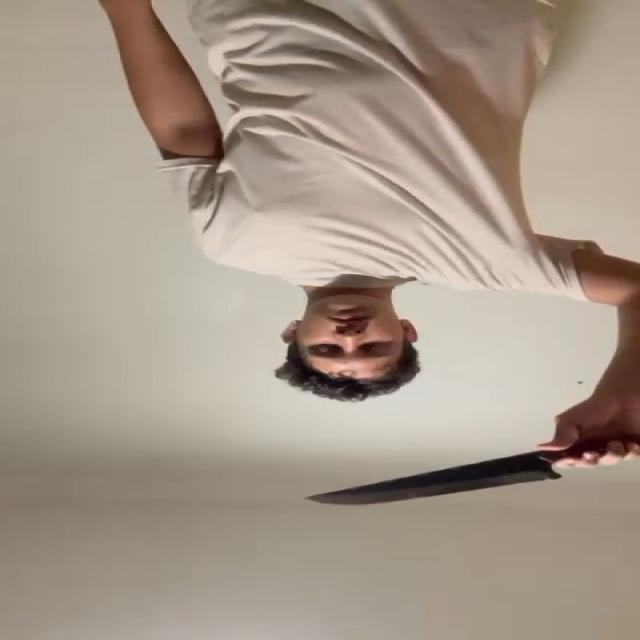knife: (304, 459, 564, 506)
